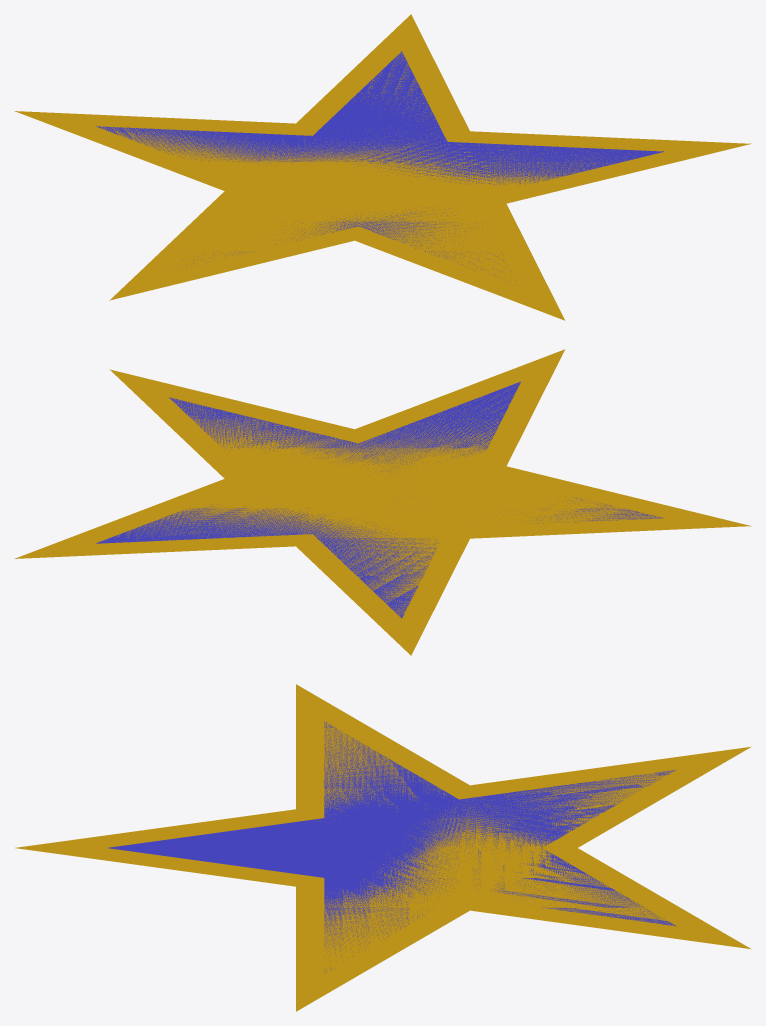
File: star.fbx
The picture shows the model from 3 angles, top to bottom: view 1: azimuth 30°, elevation 25°; view 2: azimuth 150°, elevation 25°; view 3: azimuth 270°, elevation 25°; orthographic projection. The views are drawn at different scales.
Parts seen in each view (by area): view 1: Circle, Circle.001; view 2: Circle, Circle.001; view 3: Circle, Circle.001.
Part boxes in pixels (x1,y1,x2,y2): Circle: (14,14,751,320); Circle.001: (96,51,664,276); Circle: (14,349,751,655); Circle.001: (95,381,663,618); Circle: (15,684,751,1011); Circle.001: (108,721,676,973).
Size of the model in its own units: 1.9 by 2.95e-07 by 1.81.
